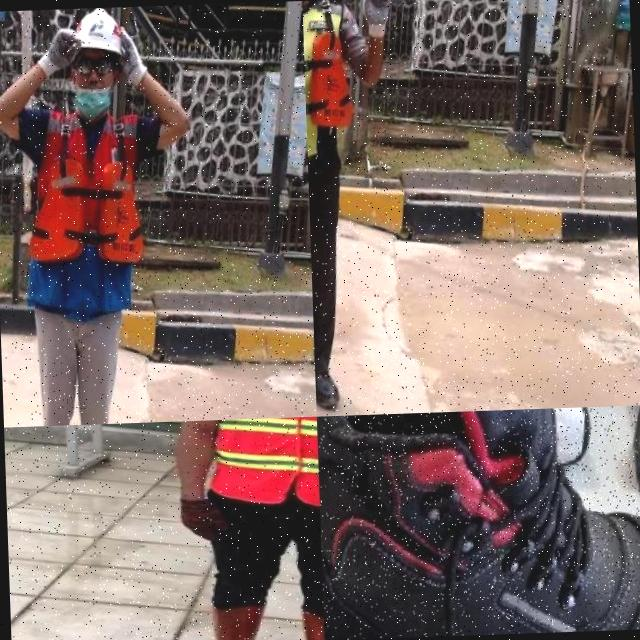boots: (316, 405, 640, 640), (187, 596, 269, 640), (314, 354, 348, 416)
helmet: (70, 6, 128, 61)
vest: (16, 99, 160, 319), (196, 416, 320, 519), (302, 0, 371, 171)
